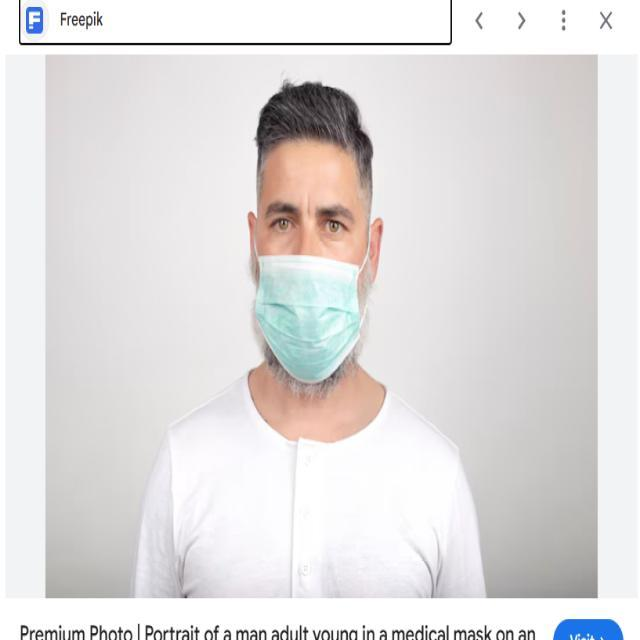face_mask: (249, 133, 382, 370)
